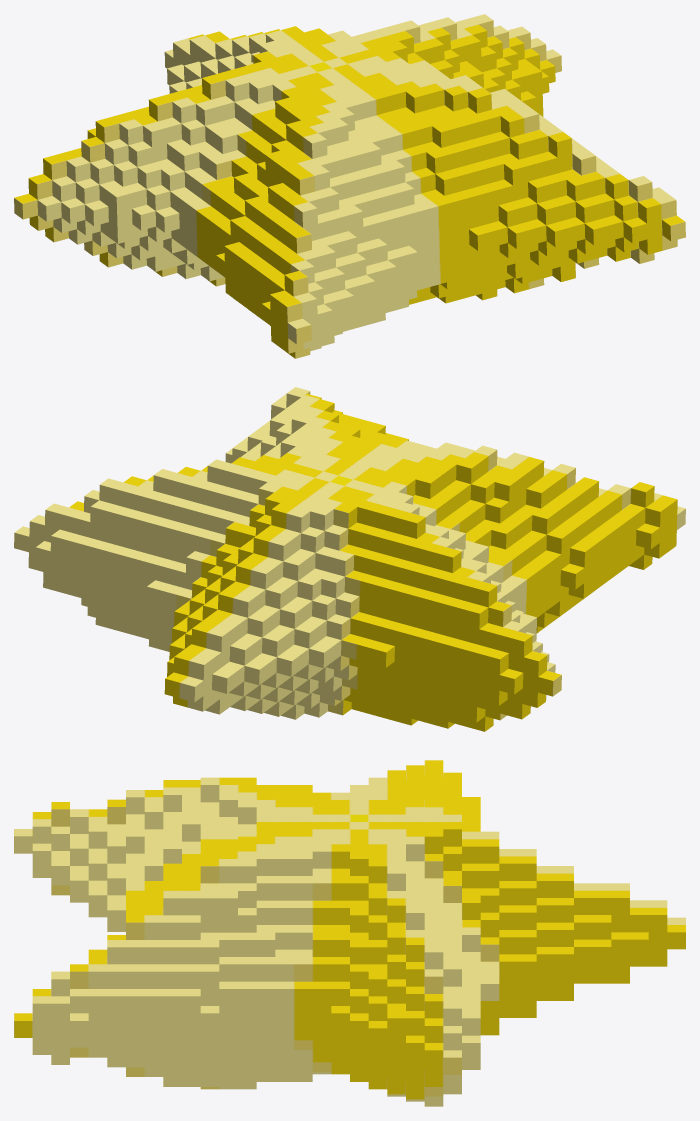
The model's file is Star.fbx.
3 views of the same model, one above another, from view 1: azimuth 30°, elevation 25°; view 2: azimuth 150°, elevation 25°; view 3: azimuth 270°, elevation 25° (orthographic). The views are drawn at different scales.
Visible parts, largest first — view 1: Star; view 2: Star; view 3: Star.
Part boxes in pixels (bbox=[...]): Star: bbox=[14, 14, 685, 358]; Star: bbox=[14, 387, 685, 731]; Star: bbox=[14, 760, 685, 1106].
Size of the model in its own units: 20.04 by 7.46 by 20.03.
